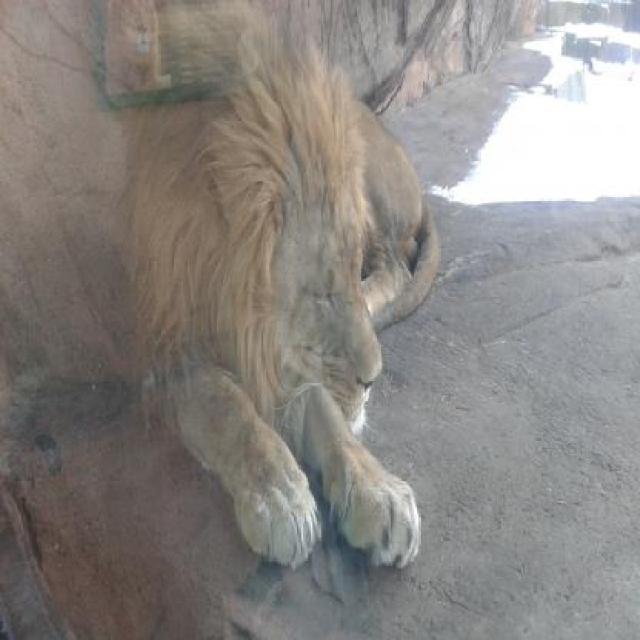Lion: (81, 0, 461, 638)
